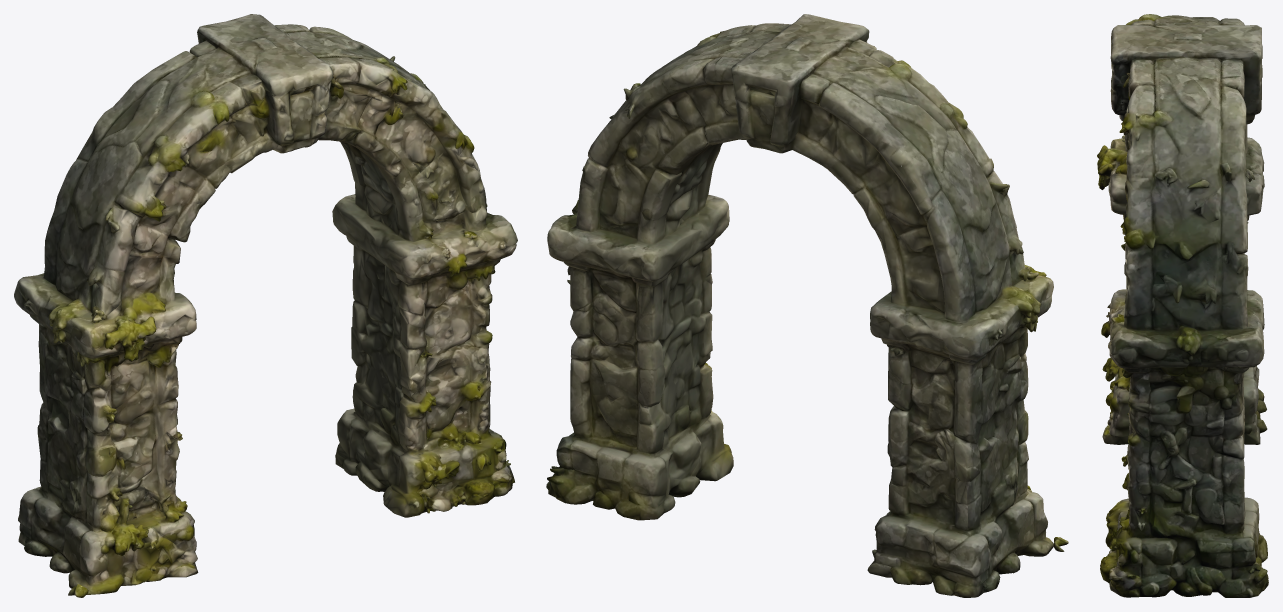
The model's file is stone-arch.glb.
3 renders of one model, left to right at view 1: azimuth 30°, elevation 25°; view 2: azimuth 150°, elevation 25°; view 3: azimuth 270°, elevation 25°, orthographic. The views are drawn at different scales.
Parts seen in each view (by area): view 1: node_d8f38047-5c87-4c94-b56e-2d0970643ce7; view 2: node_d8f38047-5c87-4c94-b56e-2d0970643ce7; view 3: node_d8f38047-5c87-4c94-b56e-2d0970643ce7.
Part boxes in pixels (x1,y1,x2,y2): node_d8f38047-5c87-4c94-b56e-2d0970643ce7: [14, 14, 517, 597]; node_d8f38047-5c87-4c94-b56e-2d0970643ce7: [546, 14, 1068, 597]; node_d8f38047-5c87-4c94-b56e-2d0970643ce7: [1097, 14, 1268, 597].
Size of the model in its own units: 0.978 by 0.9795 by 0.331.
Materials: 1 (1 with a texture image).
